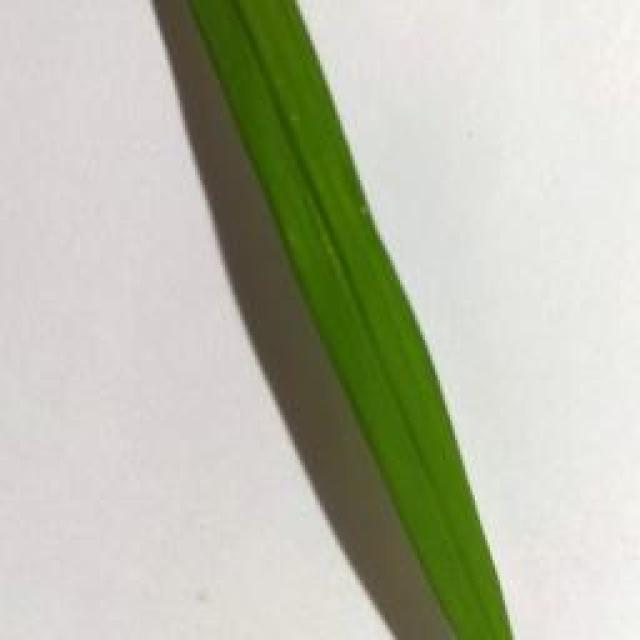Healthy: (182, 0, 515, 640)
